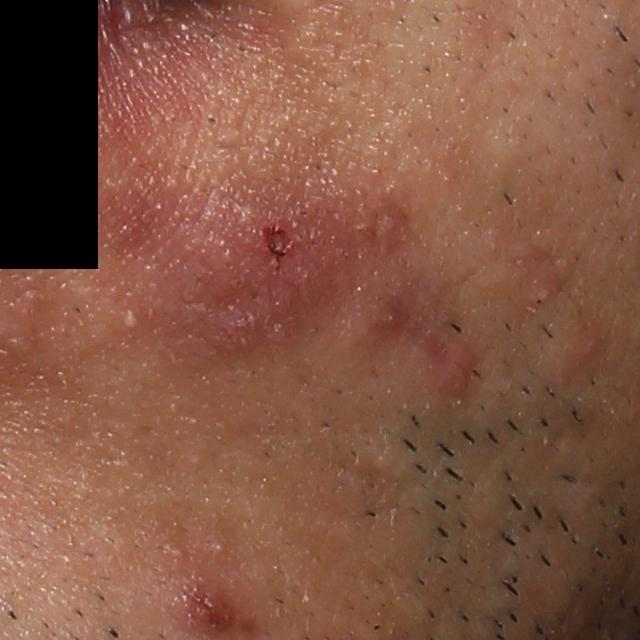nodule: (156, 180, 341, 369)
papule: (328, 274, 414, 363), (158, 562, 231, 637), (423, 337, 484, 402), (350, 196, 410, 262), (542, 319, 602, 384), (520, 271, 554, 306)
pustule: (102, 295, 148, 340)
